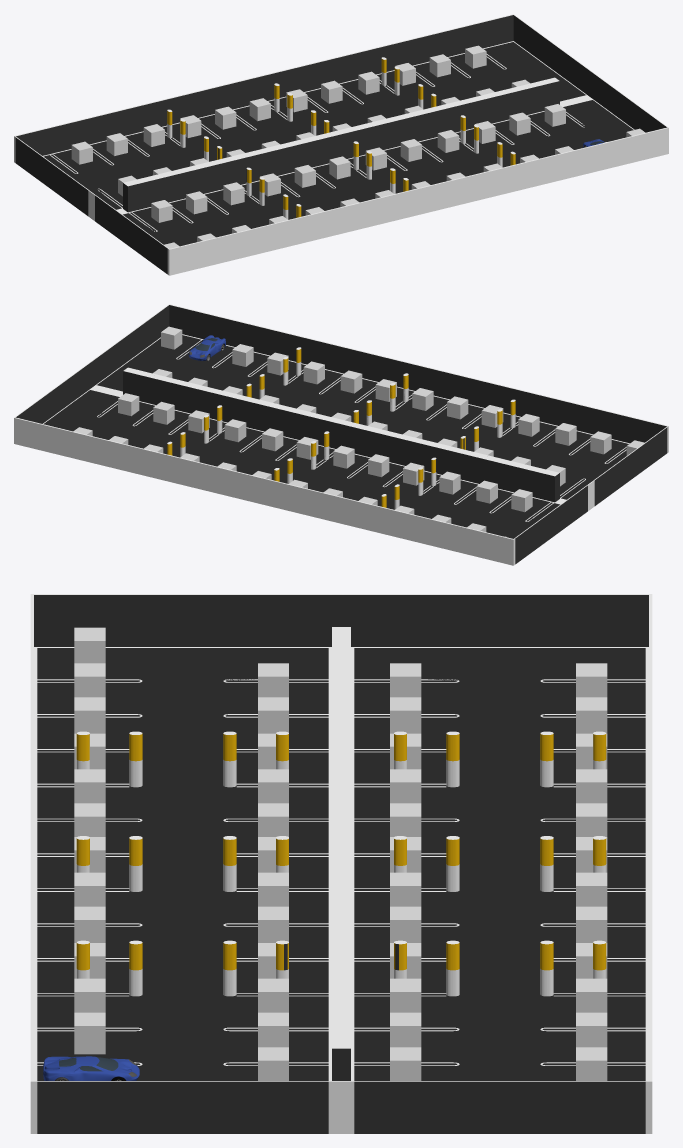
The model's file is parkinglot.fbx.
3 renders of one model, top to bottom at view 1: azimuth 30°, elevation 25°; view 2: azimuth 150°, elevation 25°; view 3: azimuth 270°, elevation 25°, orthographic. The views are drawn at different scales.
Parts seen in each view (by area): view 1: Cube, 立方体.022, 立方体.021, 立方体.024, 立方体.037, 立方体.038, 立方体.040, 立方体.015, 立方体.017, 立方体.018, 立方体.041, 立方体.043 (+7 smaller); view 2: Cube, gt2016, 立方体.006, 立方体.028, 立方体.008, 立方体.029, 立方体.031, 立方体.032, 立方体.033, 立方体.034, 立方体.036, 立方体 (+8 smaller); view 3: Cube, gt2016, 立方体.001, 立方体.009, 立方体.006, 立方体.031, 立方体.043, 立方体.007, 立方体.032, 立方体.044, 立方体.026, 立方体.038 (+26 smaller).
Boxes of the visible parts, x1,y1,x2,y2 form: Cube: (14, 14, 668, 275); 立方体.022: (437, 130, 459, 152); 立方体.021: (329, 156, 350, 179); 立方体.024: (509, 112, 530, 135); 立方体.037: (465, 45, 486, 68); 立方体.038: (429, 54, 450, 77); 立方体.040: (358, 71, 379, 94); 立方体.015: (223, 182, 244, 205); 立方体.017: (151, 200, 172, 222); 立方体.018: (186, 191, 207, 214); 立方体.041: (249, 98, 270, 121); 立方体.043: (321, 80, 342, 103); Cube: (14, 304, 668, 565); gt2016: (188, 335, 225, 361); 立方体.006: (340, 370, 362, 393); 立方体.028: (224, 419, 246, 442); 立方体.008: (590, 431, 611, 454); 立方体.029: (333, 445, 354, 468); 立方体.031: (262, 428, 283, 451); 立方体.032: (476, 480, 497, 503); 立方体.033: (511, 489, 532, 512); 立方体.034: (439, 471, 460, 494); 立方体.036: (368, 454, 389, 477); 立方体: (161, 326, 182, 349); Cube: (30, 594, 652, 1133); gt2016: (43, 1056, 139, 1080); 立方体.001: (74, 1012, 105, 1054); 立方体.009: (74, 627, 105, 663); 立方体.006: (74, 906, 105, 942); 立方体.031: (390, 906, 421, 942); 立方体.043: (576, 906, 607, 942); 立方体.007: (74, 697, 105, 733); 立方体.032: (390, 697, 421, 733); 立方体.044: (576, 697, 607, 733); 立方体.026: (390, 1012, 421, 1047); 立方体.038: (576, 1012, 607, 1047).
Size of the model in its own units: 7368 by 370 by 3968.
